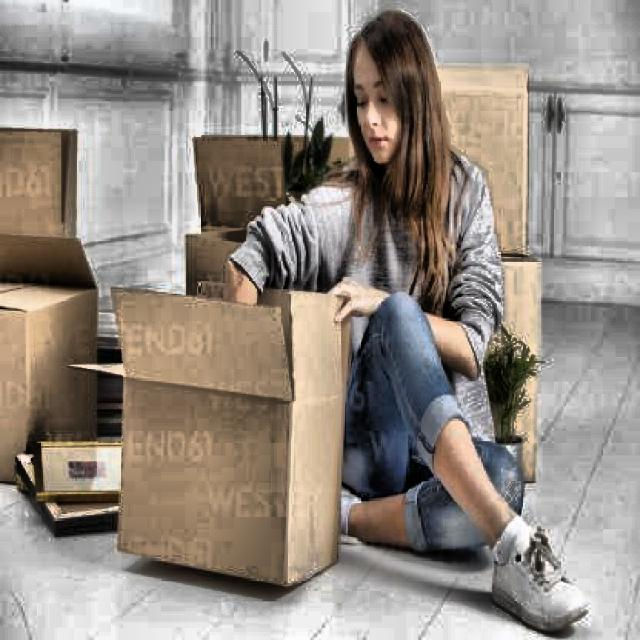Cardbox: (100, 285, 369, 611), (0, 285, 125, 543)
